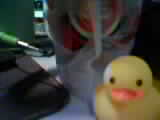duck: (90, 49, 149, 109)
